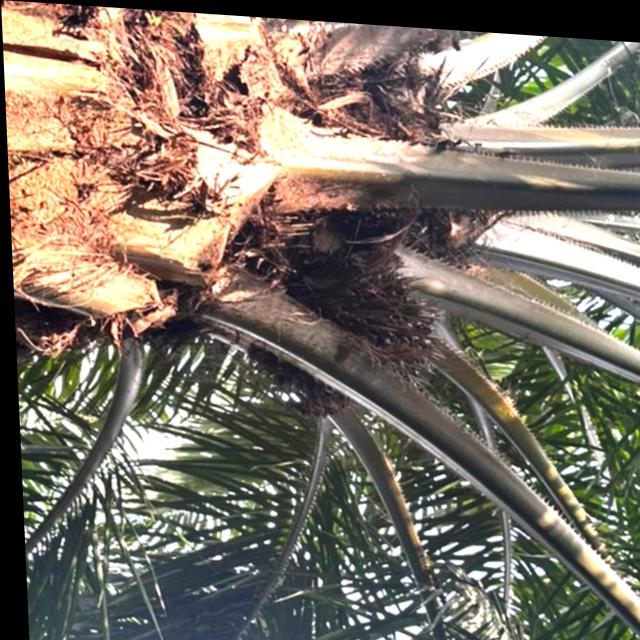ripe: (292, 232, 443, 386)
